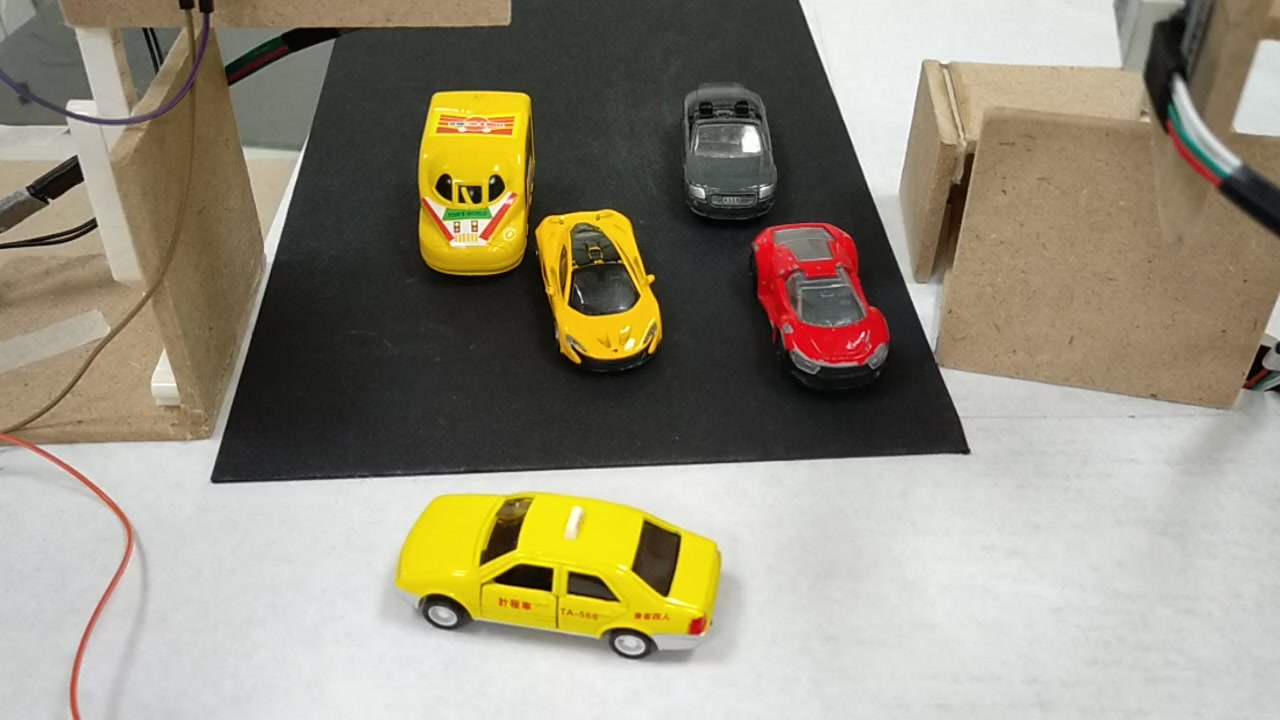car: (393, 496, 728, 657), (533, 214, 670, 370), (755, 221, 889, 377), (674, 83, 775, 220)
